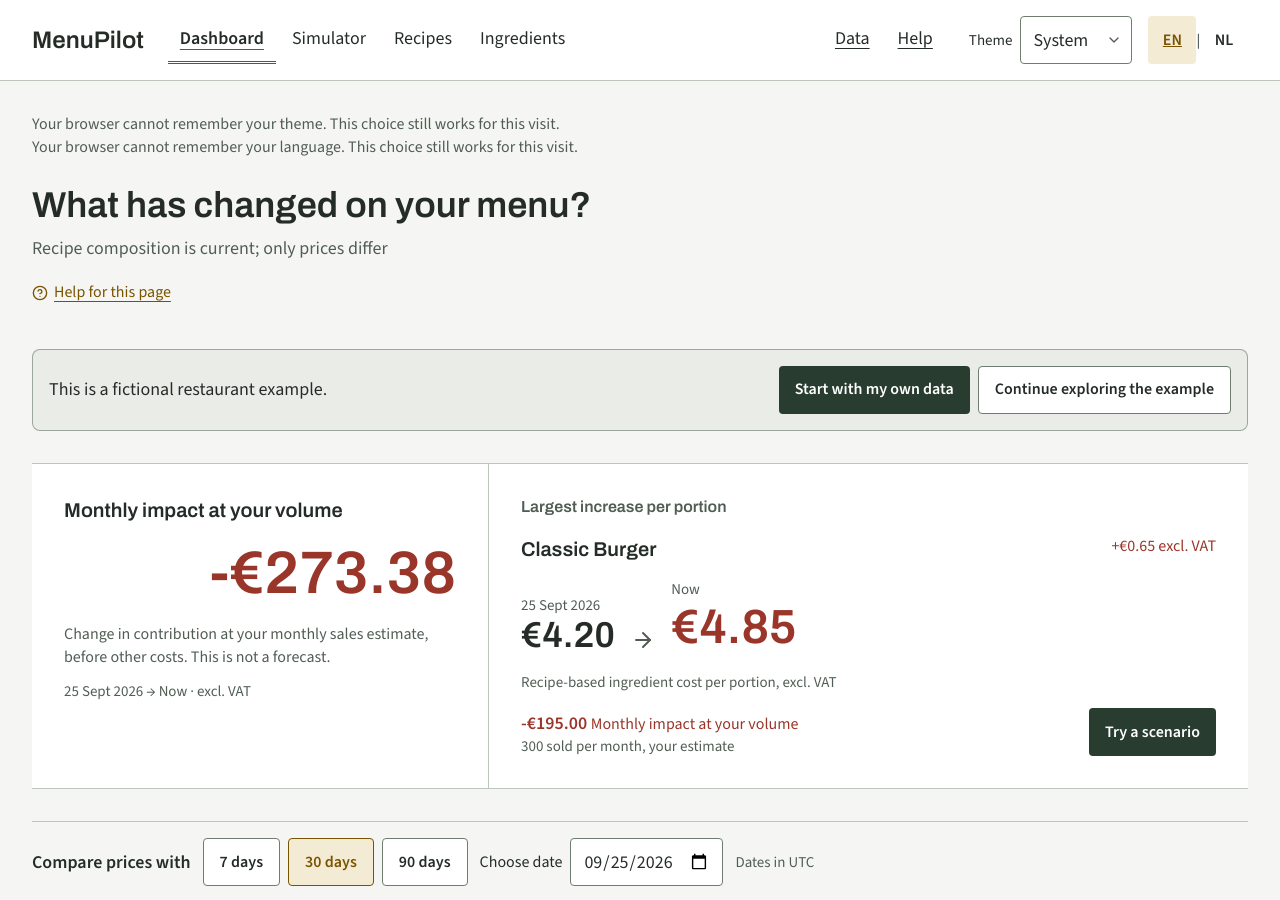
Test: a blocked preference read falls back and language works without saving
The width and height of the screenshot is (1280, 900).
Step 1. Click the button with aria-label "NL – Nederlands" → (1224, 40), box [1200, 16, 1248, 64]
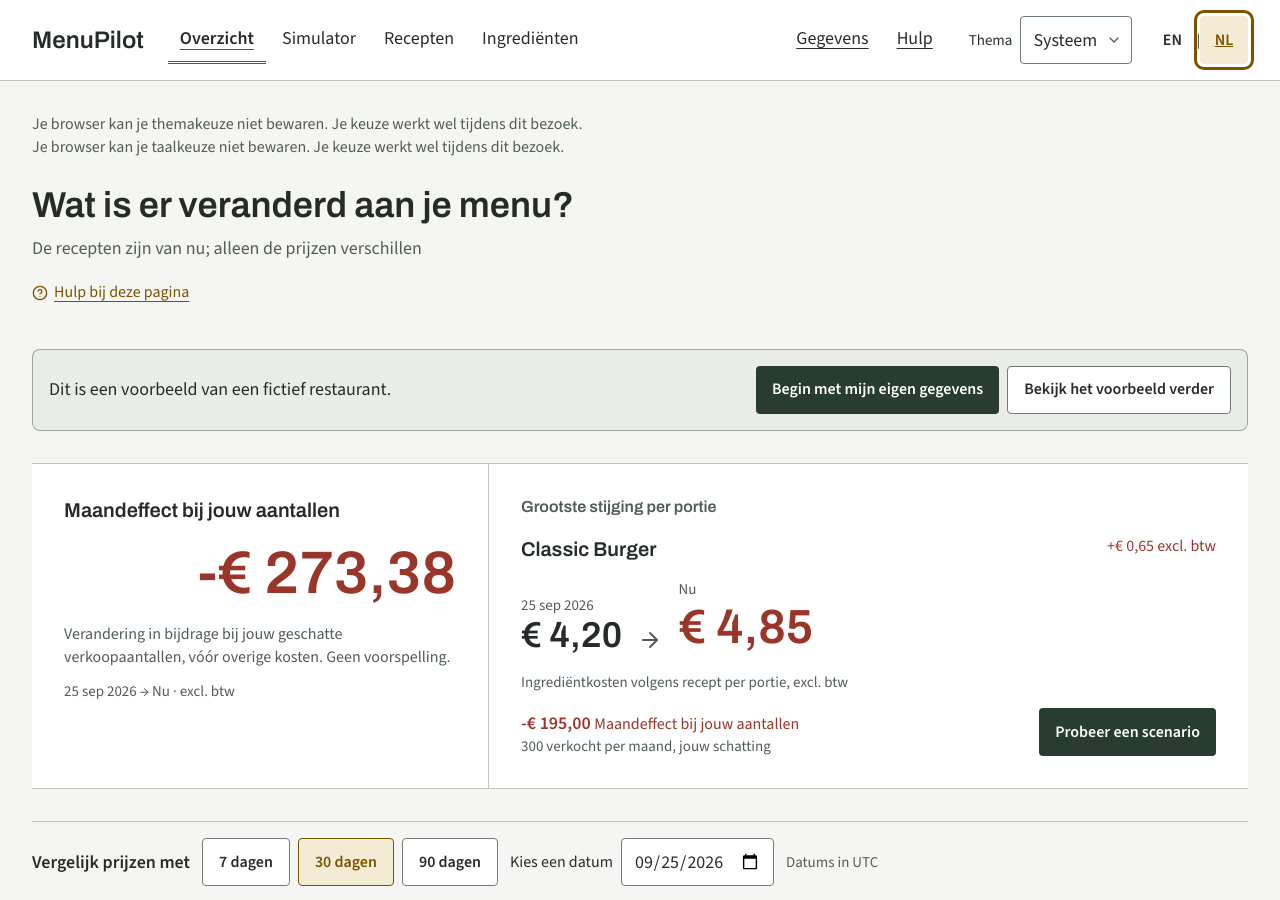
Expected: the text "taalkeuze niet bewaren" is shown, [32, 136, 564, 157]
